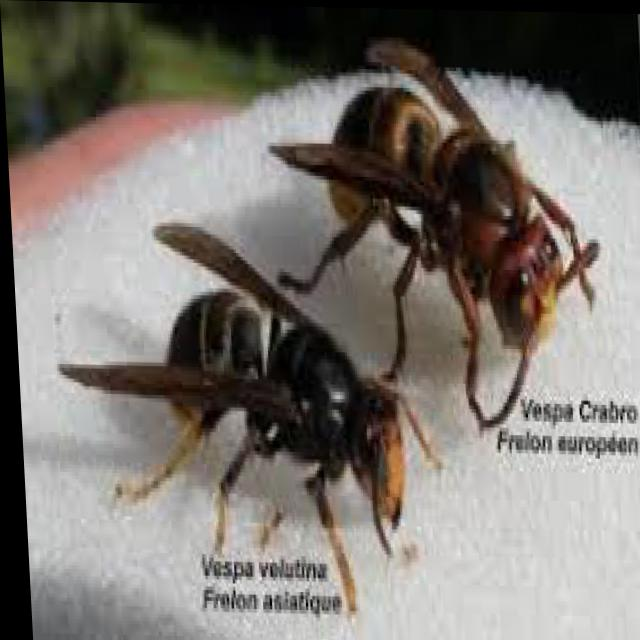Vespa Velutina: (42, 206, 442, 614)
